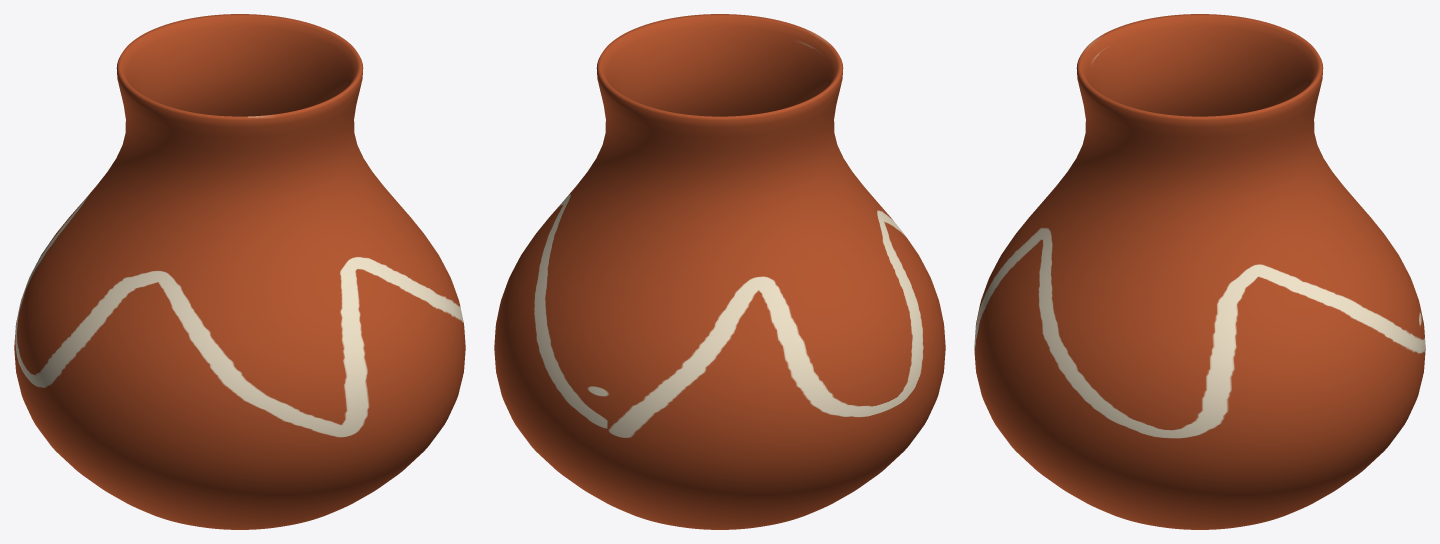
Rendered from vasija.glb.
The picture shows the model from 3 angles, left to right: view 1: azimuth 30°, elevation 25°; view 2: azimuth 150°, elevation 25°; view 3: azimuth 270°, elevation 25°; orthographic projection.
Visible parts, largest first — view 1: Cilindro; view 2: Cilindro; view 3: Cilindro.
Part boxes in pixels (<box>): Cilindro: <box>14,14,465,529</box>; Cilindro: <box>494,14,945,529</box>; Cilindro: <box>974,14,1425,529</box>.
Size of the model in its own units: 0.2887 by 0.2935 by 0.2887.
1 material, 1 textured.
